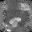people: (9, 17, 22, 27)
